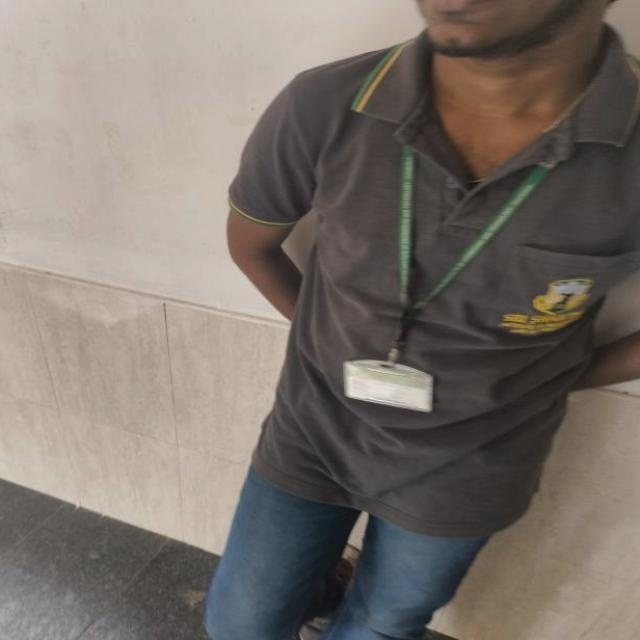ID_card: (344, 160, 554, 414)
